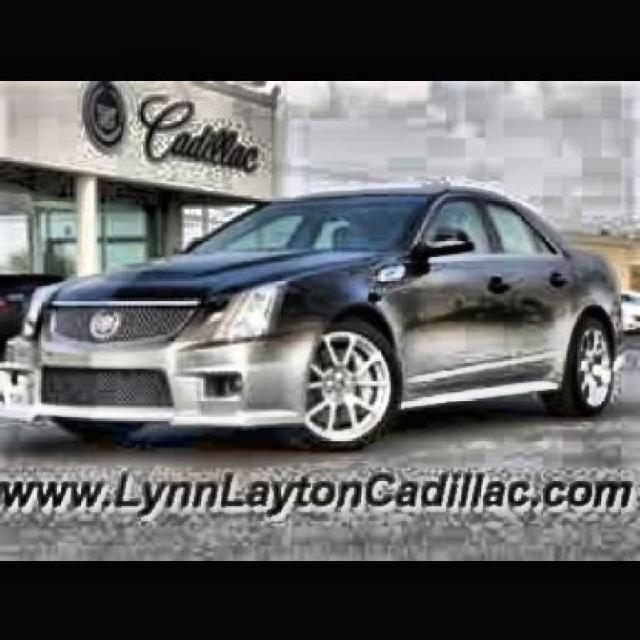black: (19, 184, 640, 414)
